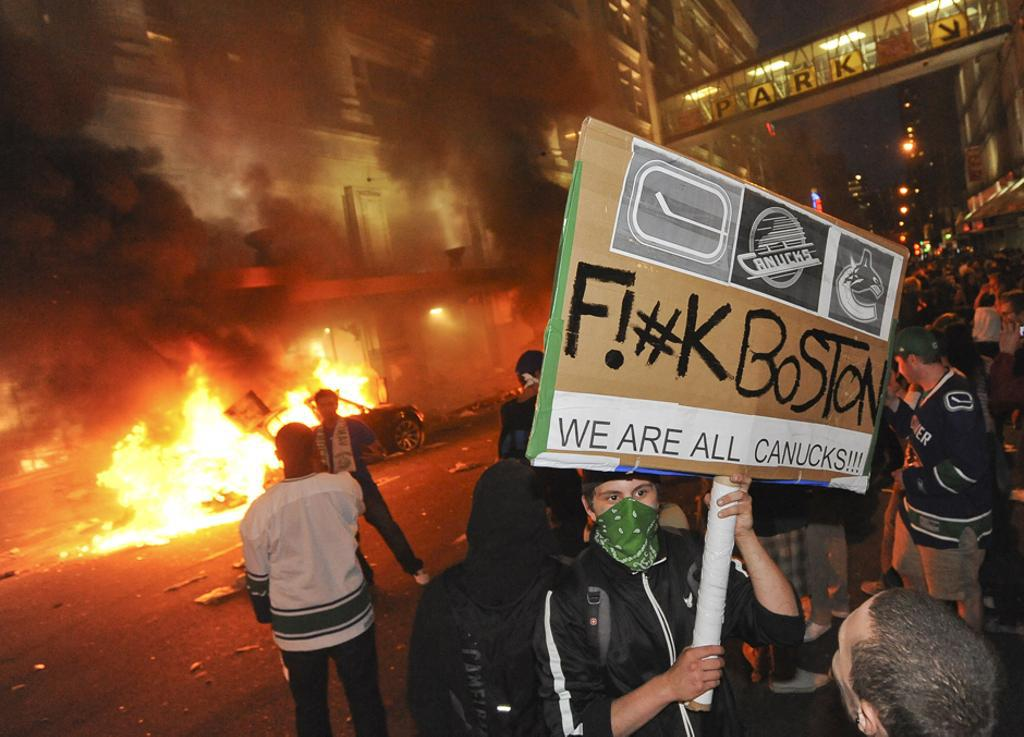face: (593, 479, 661, 537)
